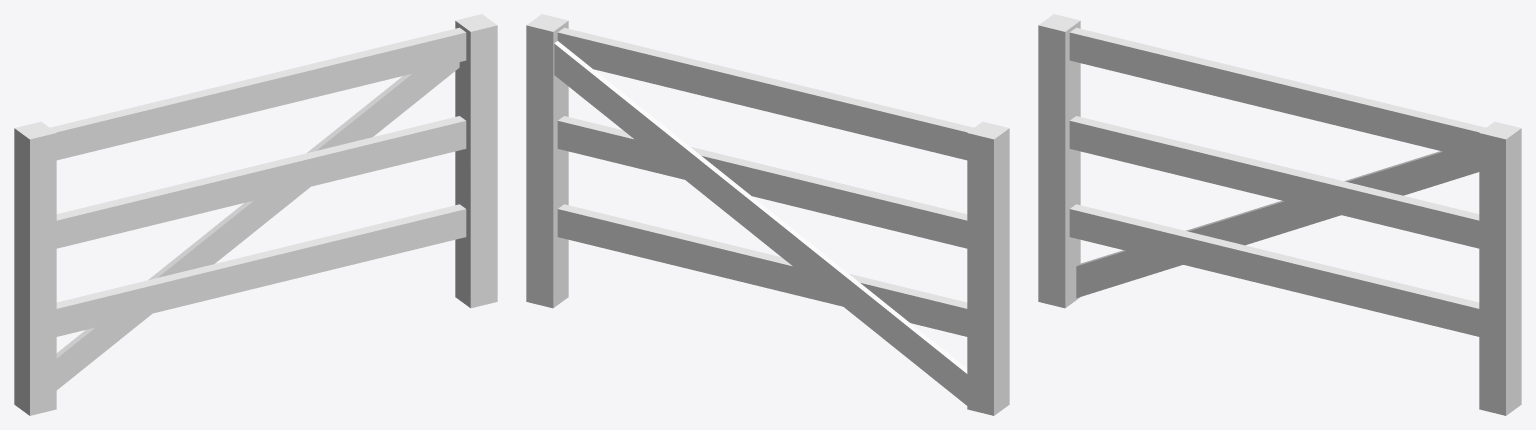
Rendered from Bld_02_Fence_Wood_Gate_Single_Long_01.glb.
The picture shows the model from 3 angles, left to right: view 1: azimuth 30°, elevation 25°; view 2: azimuth 150°, elevation 25°; view 3: azimuth 330°, elevation 25°; orthographic projection.
Parts seen in each view (by area): view 1: Bld_02_Fence_Wood_Gate_Single_Long_01; view 2: Bld_02_Fence_Wood_Gate_Single_Long_01; view 3: Bld_02_Fence_Wood_Gate_Single_Long_01.
Part boxes in pixels (x1=…): Bld_02_Fence_Wood_Gate_Single_Long_01: x1=14, y1=14, x2=497, y2=415; Bld_02_Fence_Wood_Gate_Single_Long_01: x1=526, y1=14, x2=1009, y2=415; Bld_02_Fence_Wood_Gate_Single_Long_01: x1=1038, y1=14, x2=1521, y2=415.
Size of the model in its own units: 2.44 by 1.38 by 0.1404.
Materials: 1 (1 with a texture image).
